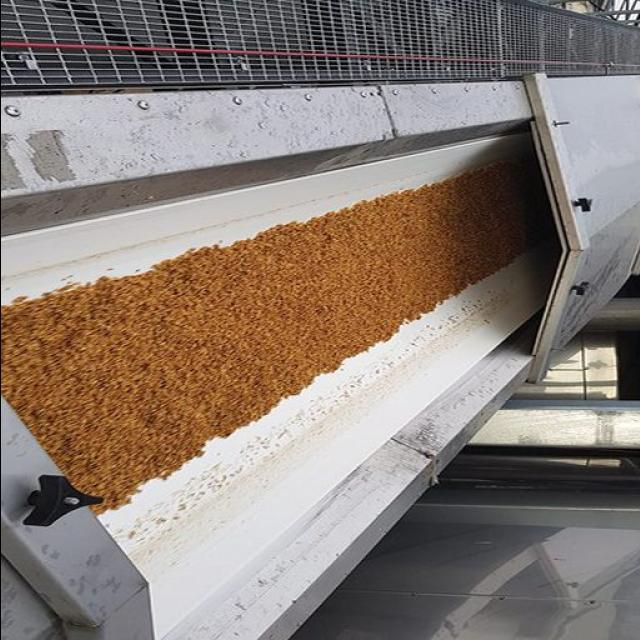conveyor: (0, 147, 557, 637)
